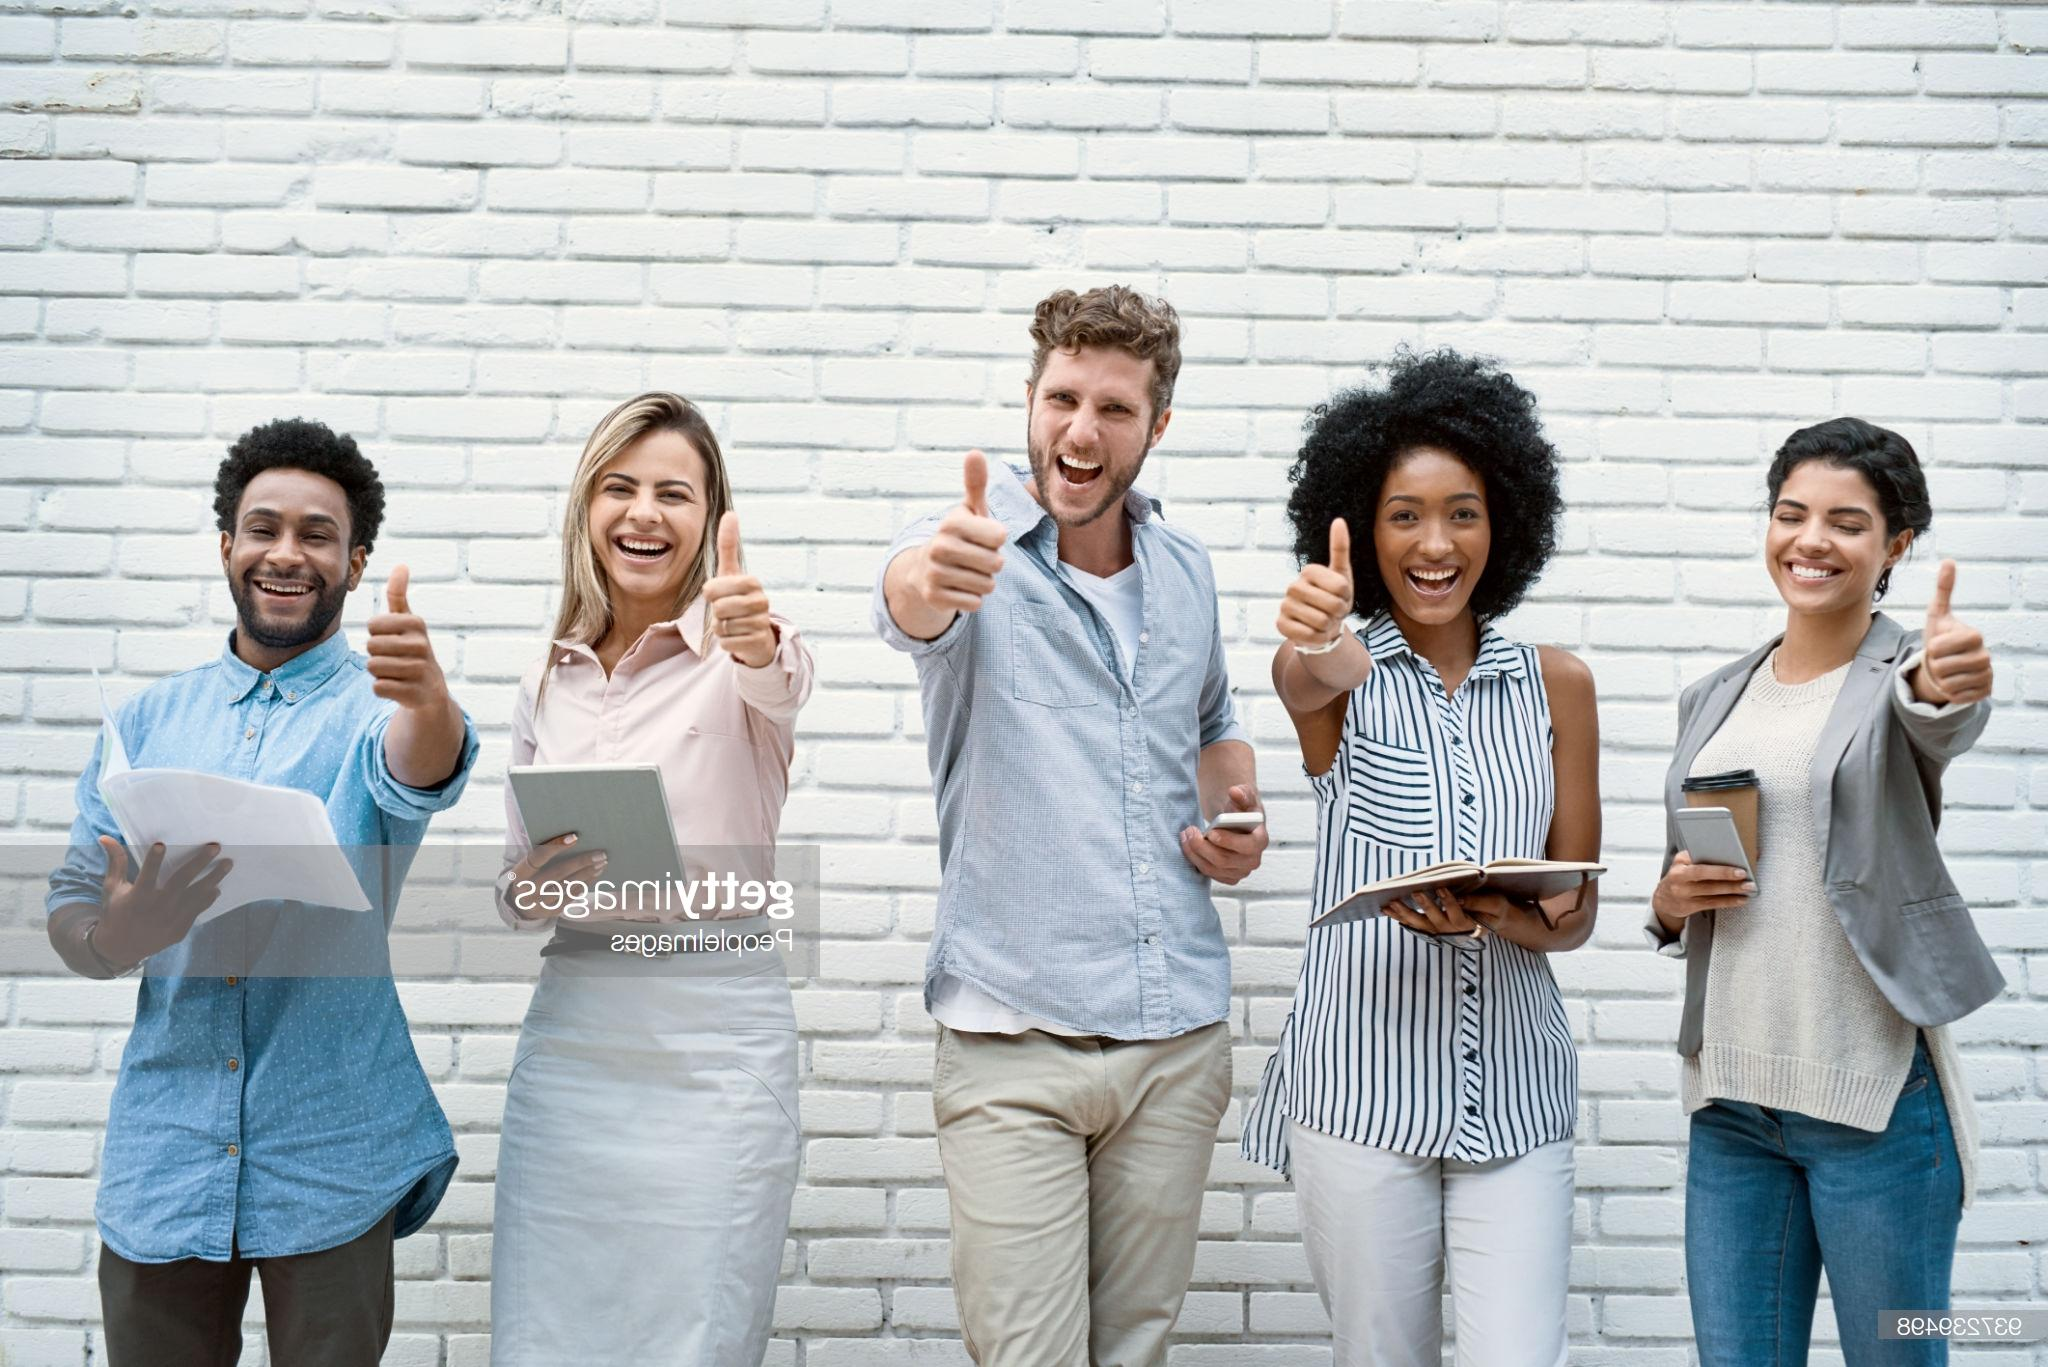thumbsup: (923, 450, 1006, 610), (1924, 558, 1995, 703), (705, 510, 772, 651), (1276, 516, 1353, 639), (368, 564, 432, 700)
